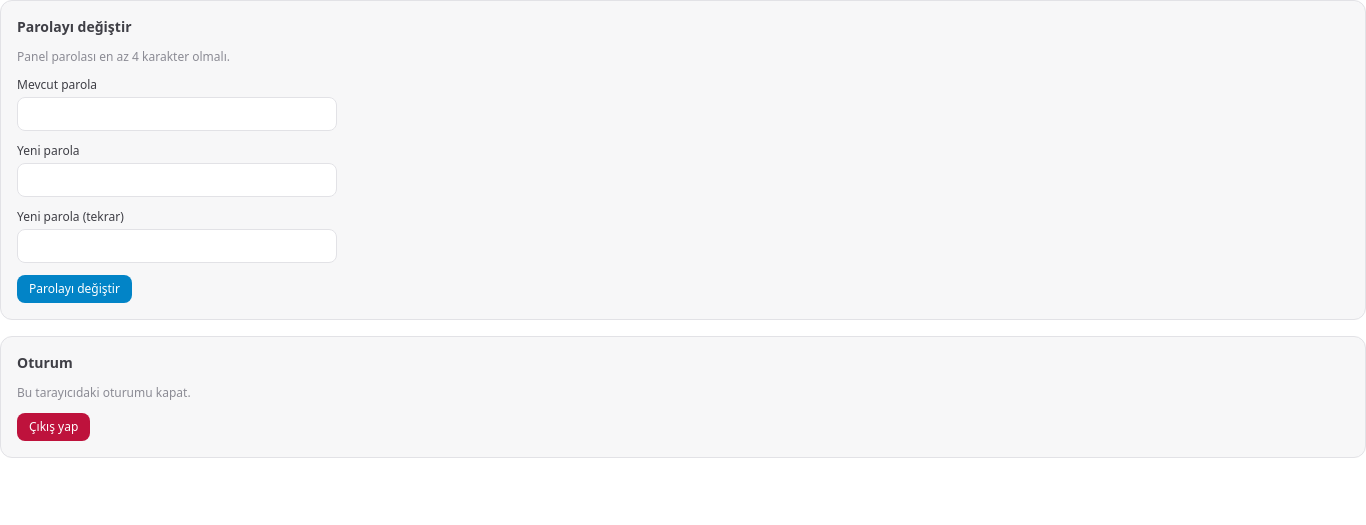
SecuritySection password change › shows the wrong-current-password error
Type "bad" into the password field labelled "Mevcut parola" at point(177, 114), box [17,97,337,131]
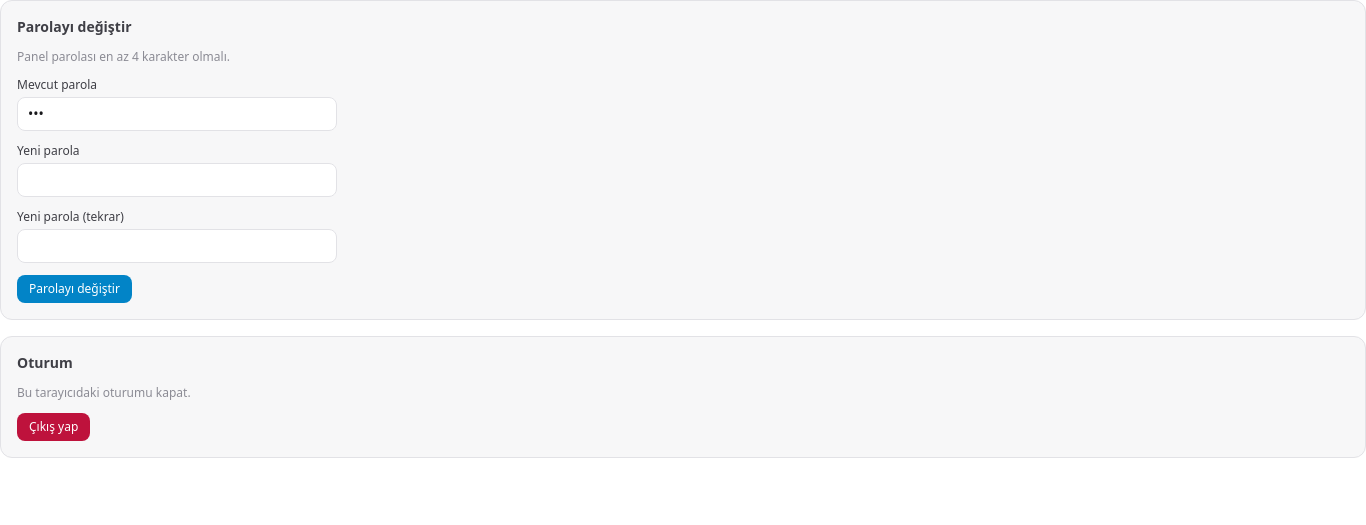
Type "long-enough-pw" into the password field labelled "Yeni parola" at point(177, 180), box [17,163,337,197]
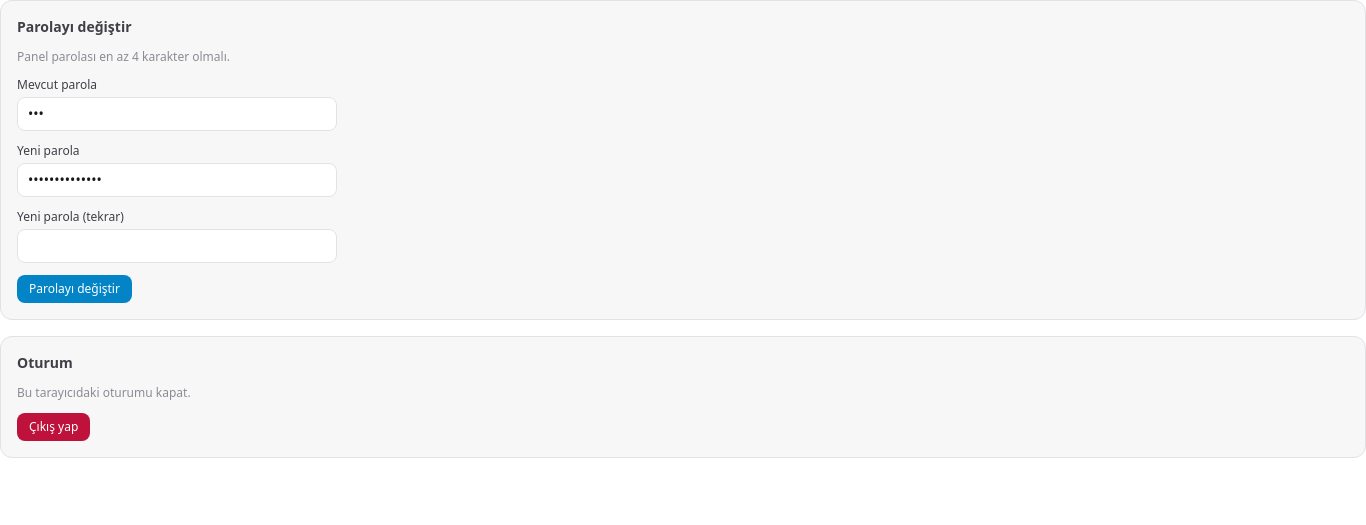
Type "long-enough-pw" into the password field labelled "Yeni parola (tekrar)" at point(177, 246), box [17,229,337,263]
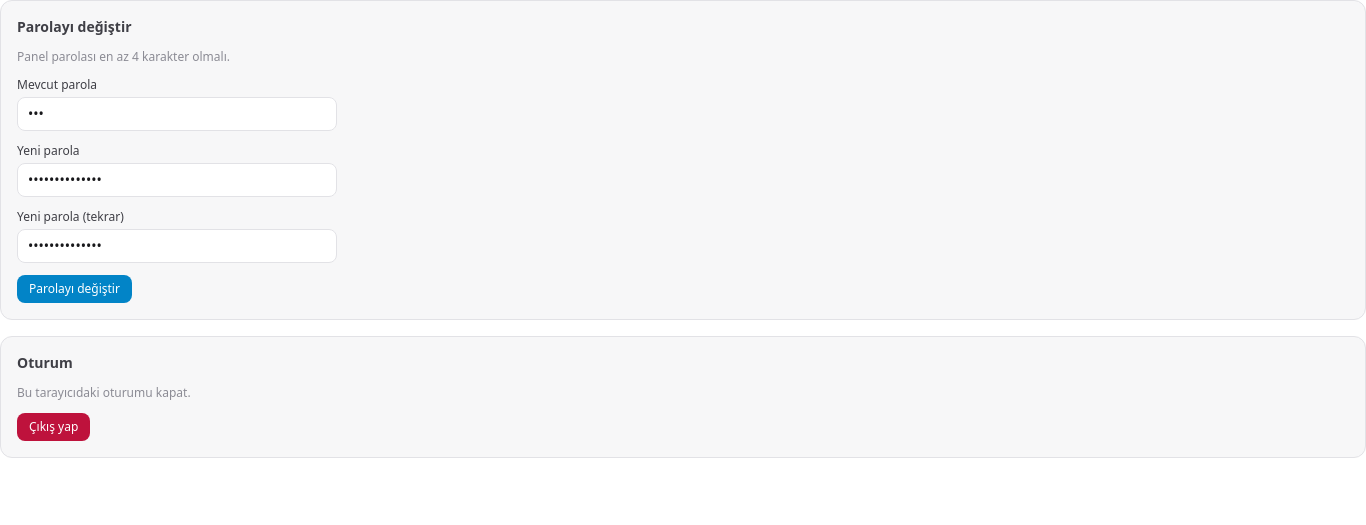
Click the button "Parolayı değiştir" at point(74, 289), box [17,275,132,303]
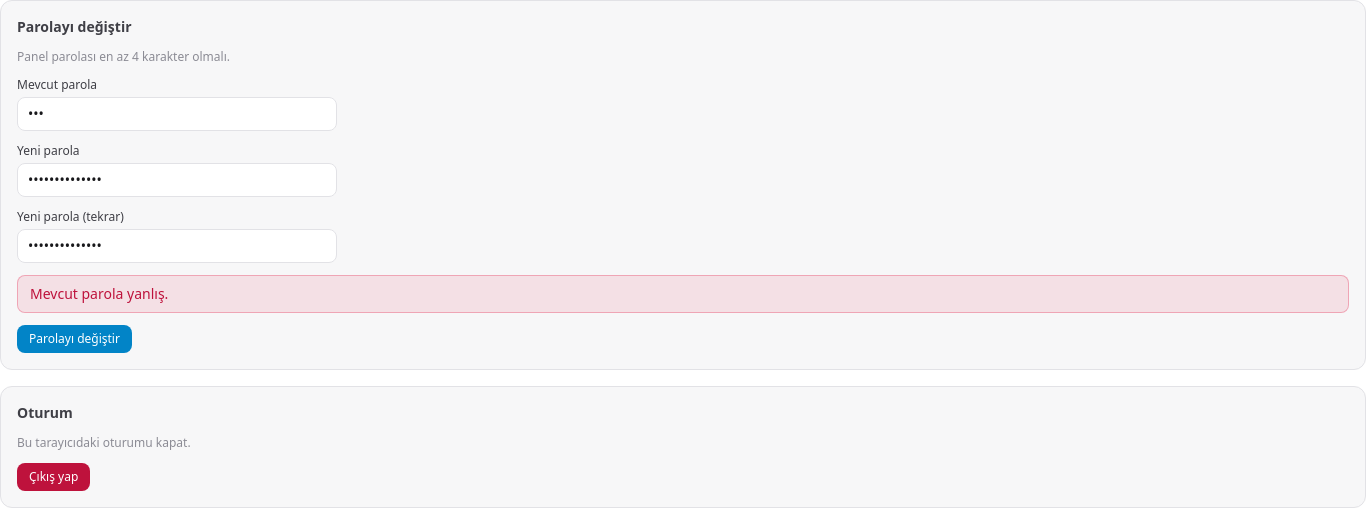
Result: the text "Mevcut parola yanlış." is shown at [17,275,1349,313]
